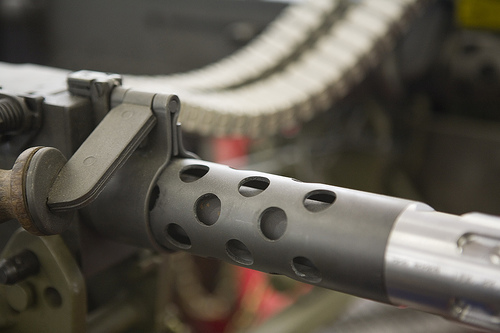rifle: (19, 48, 491, 323)
